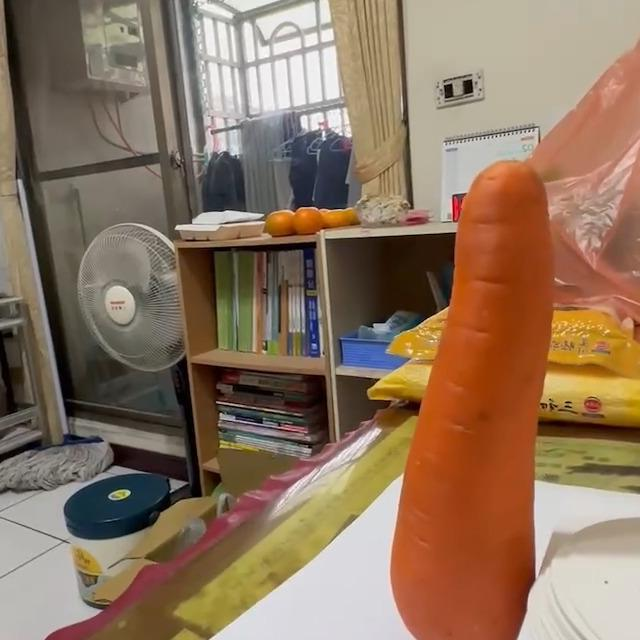carrot: (391, 159, 554, 640)
